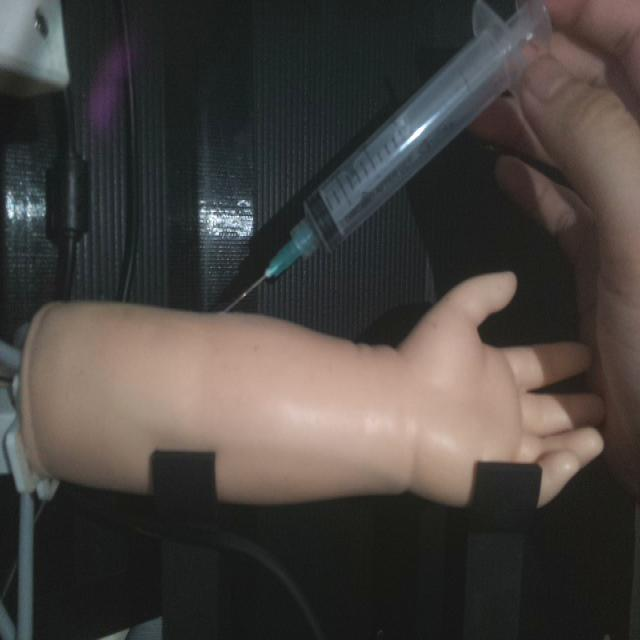Above 30 degrees: (218, 0, 554, 313)
